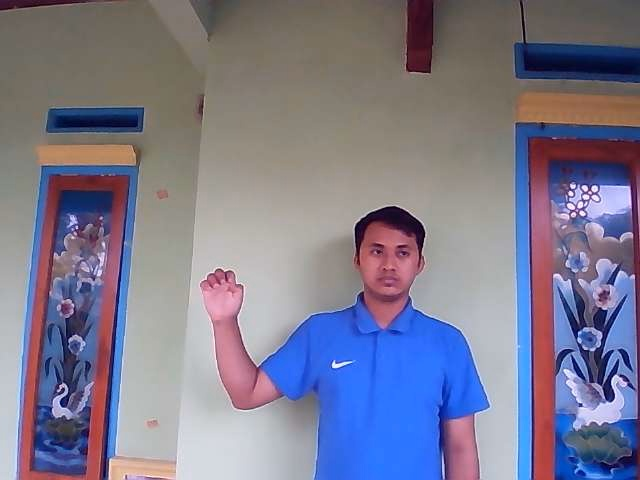E: (199, 268, 245, 320)
